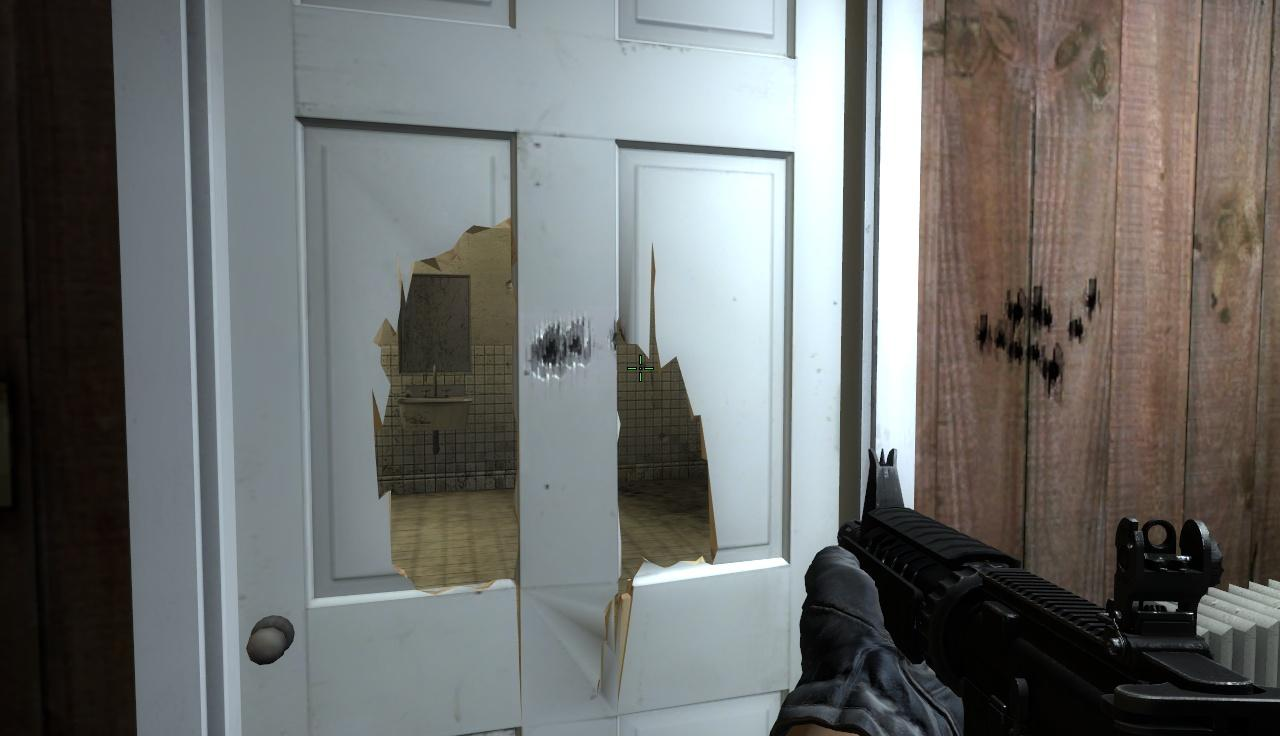rifle: (835, 446, 1280, 736)
